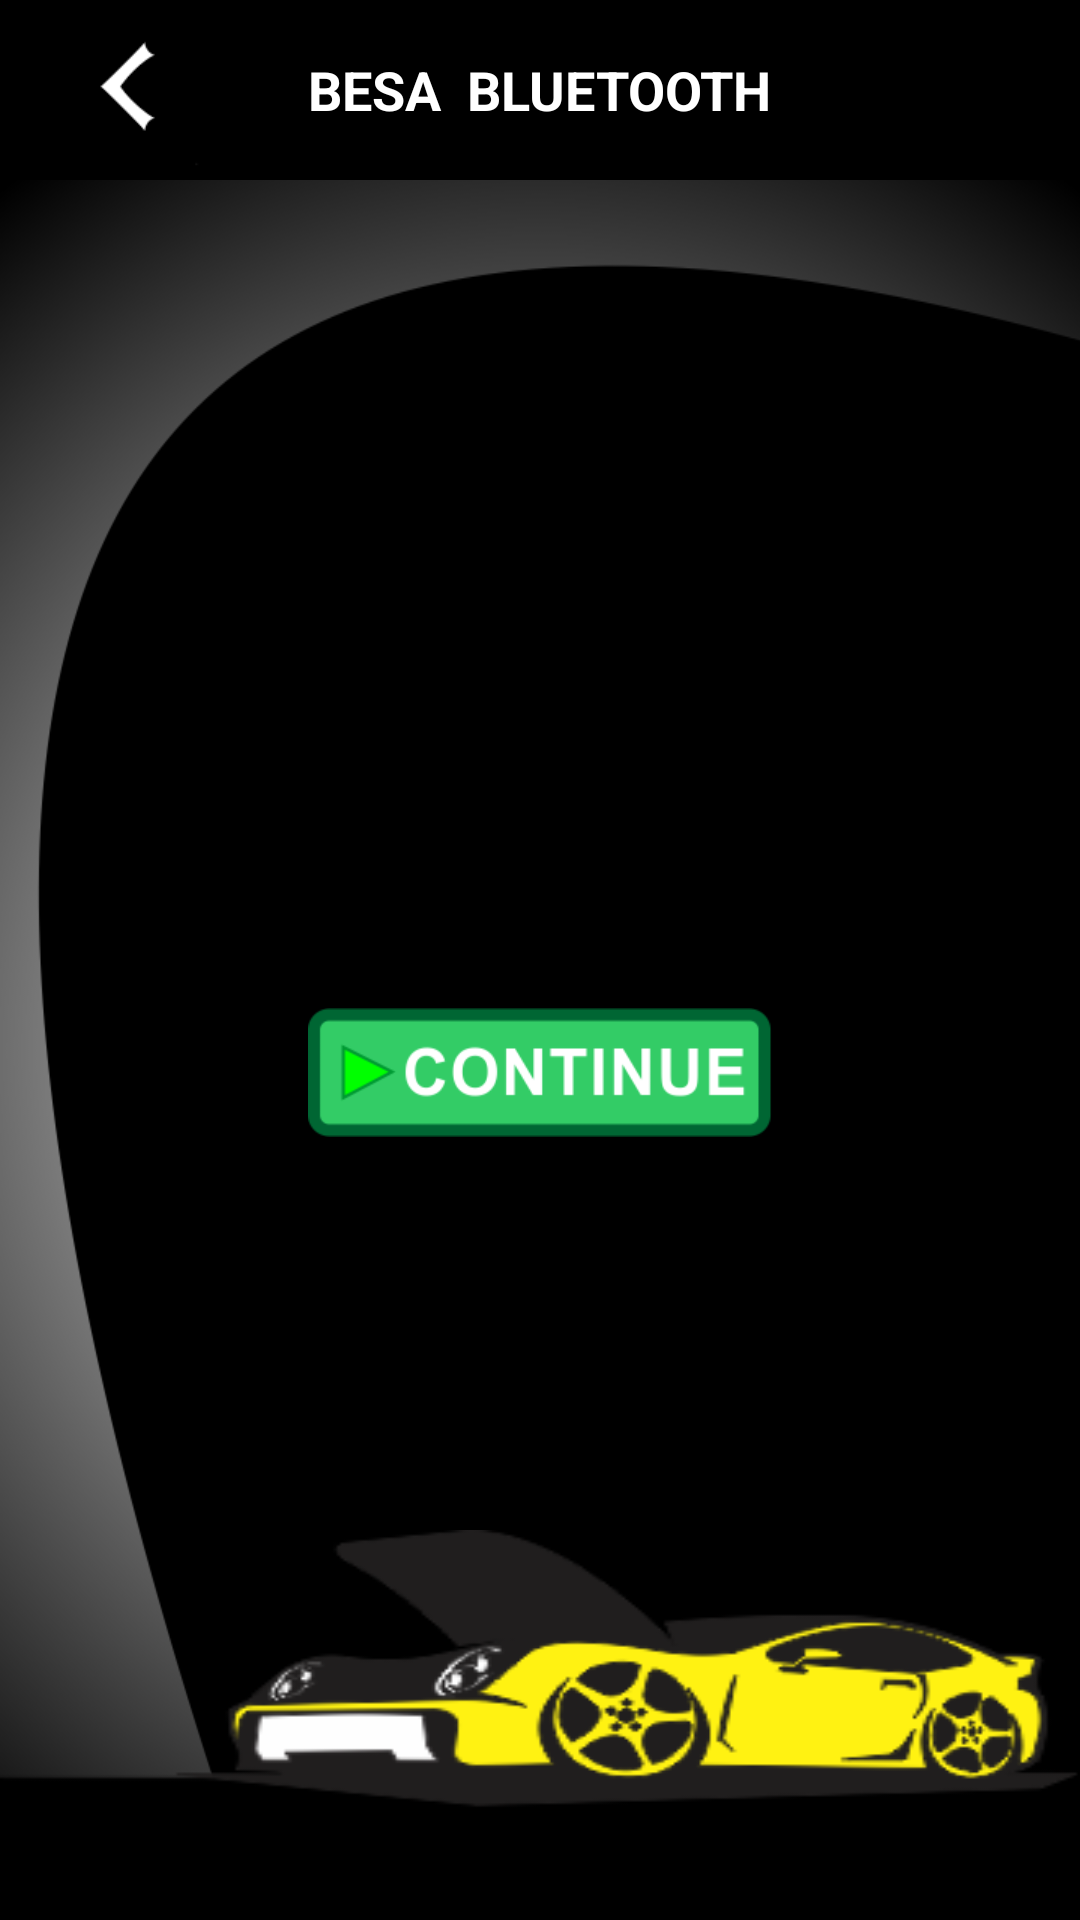

Where icons sit on this 1080*1920 app screen, as (x1=x1, y1=y1, x2=x2, y2=y2):
back: (x1=100, y1=42, x2=155, y2=131)
